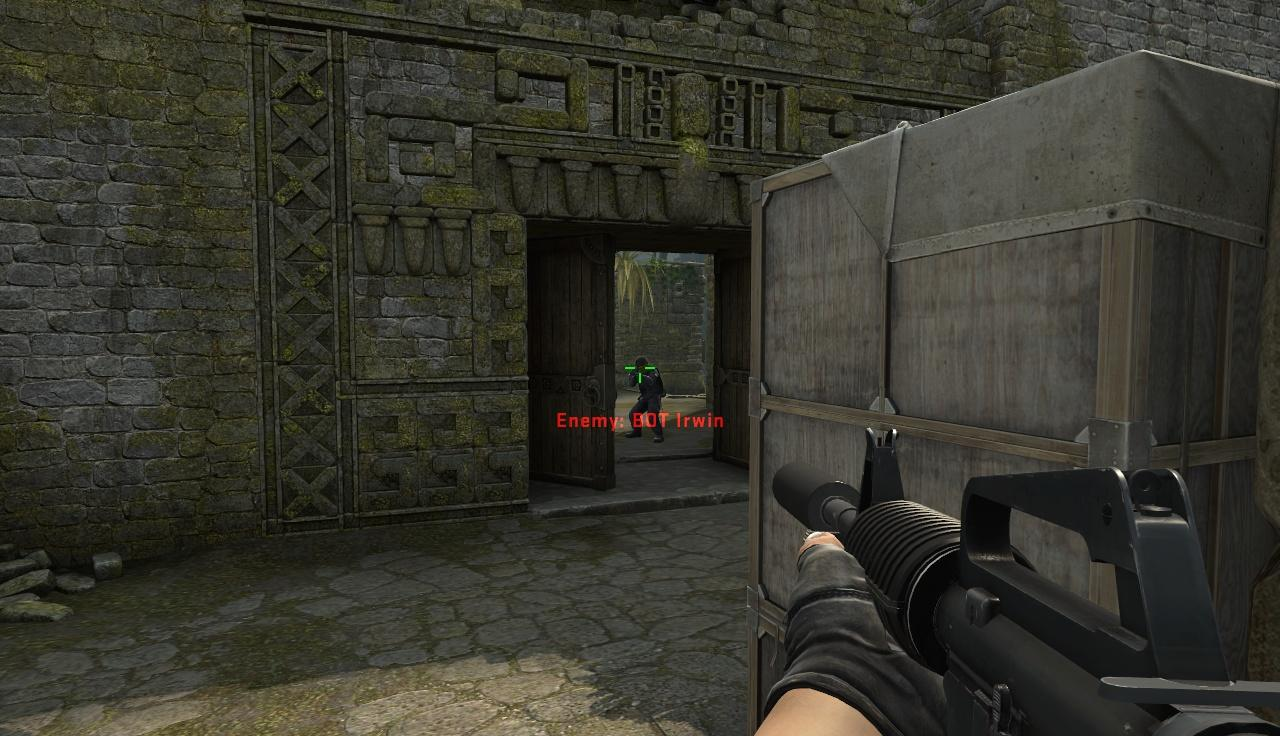ct: (629, 357, 662, 441)
cthead: (636, 358, 650, 374), (636, 358, 649, 374)
rifle: (773, 425, 1280, 731)
